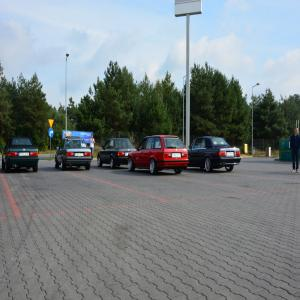Vehicle-registration-plate: (20, 152, 30, 158), (172, 154, 182, 158), (76, 154, 85, 158), (227, 153, 235, 157), (126, 153, 131, 156)
